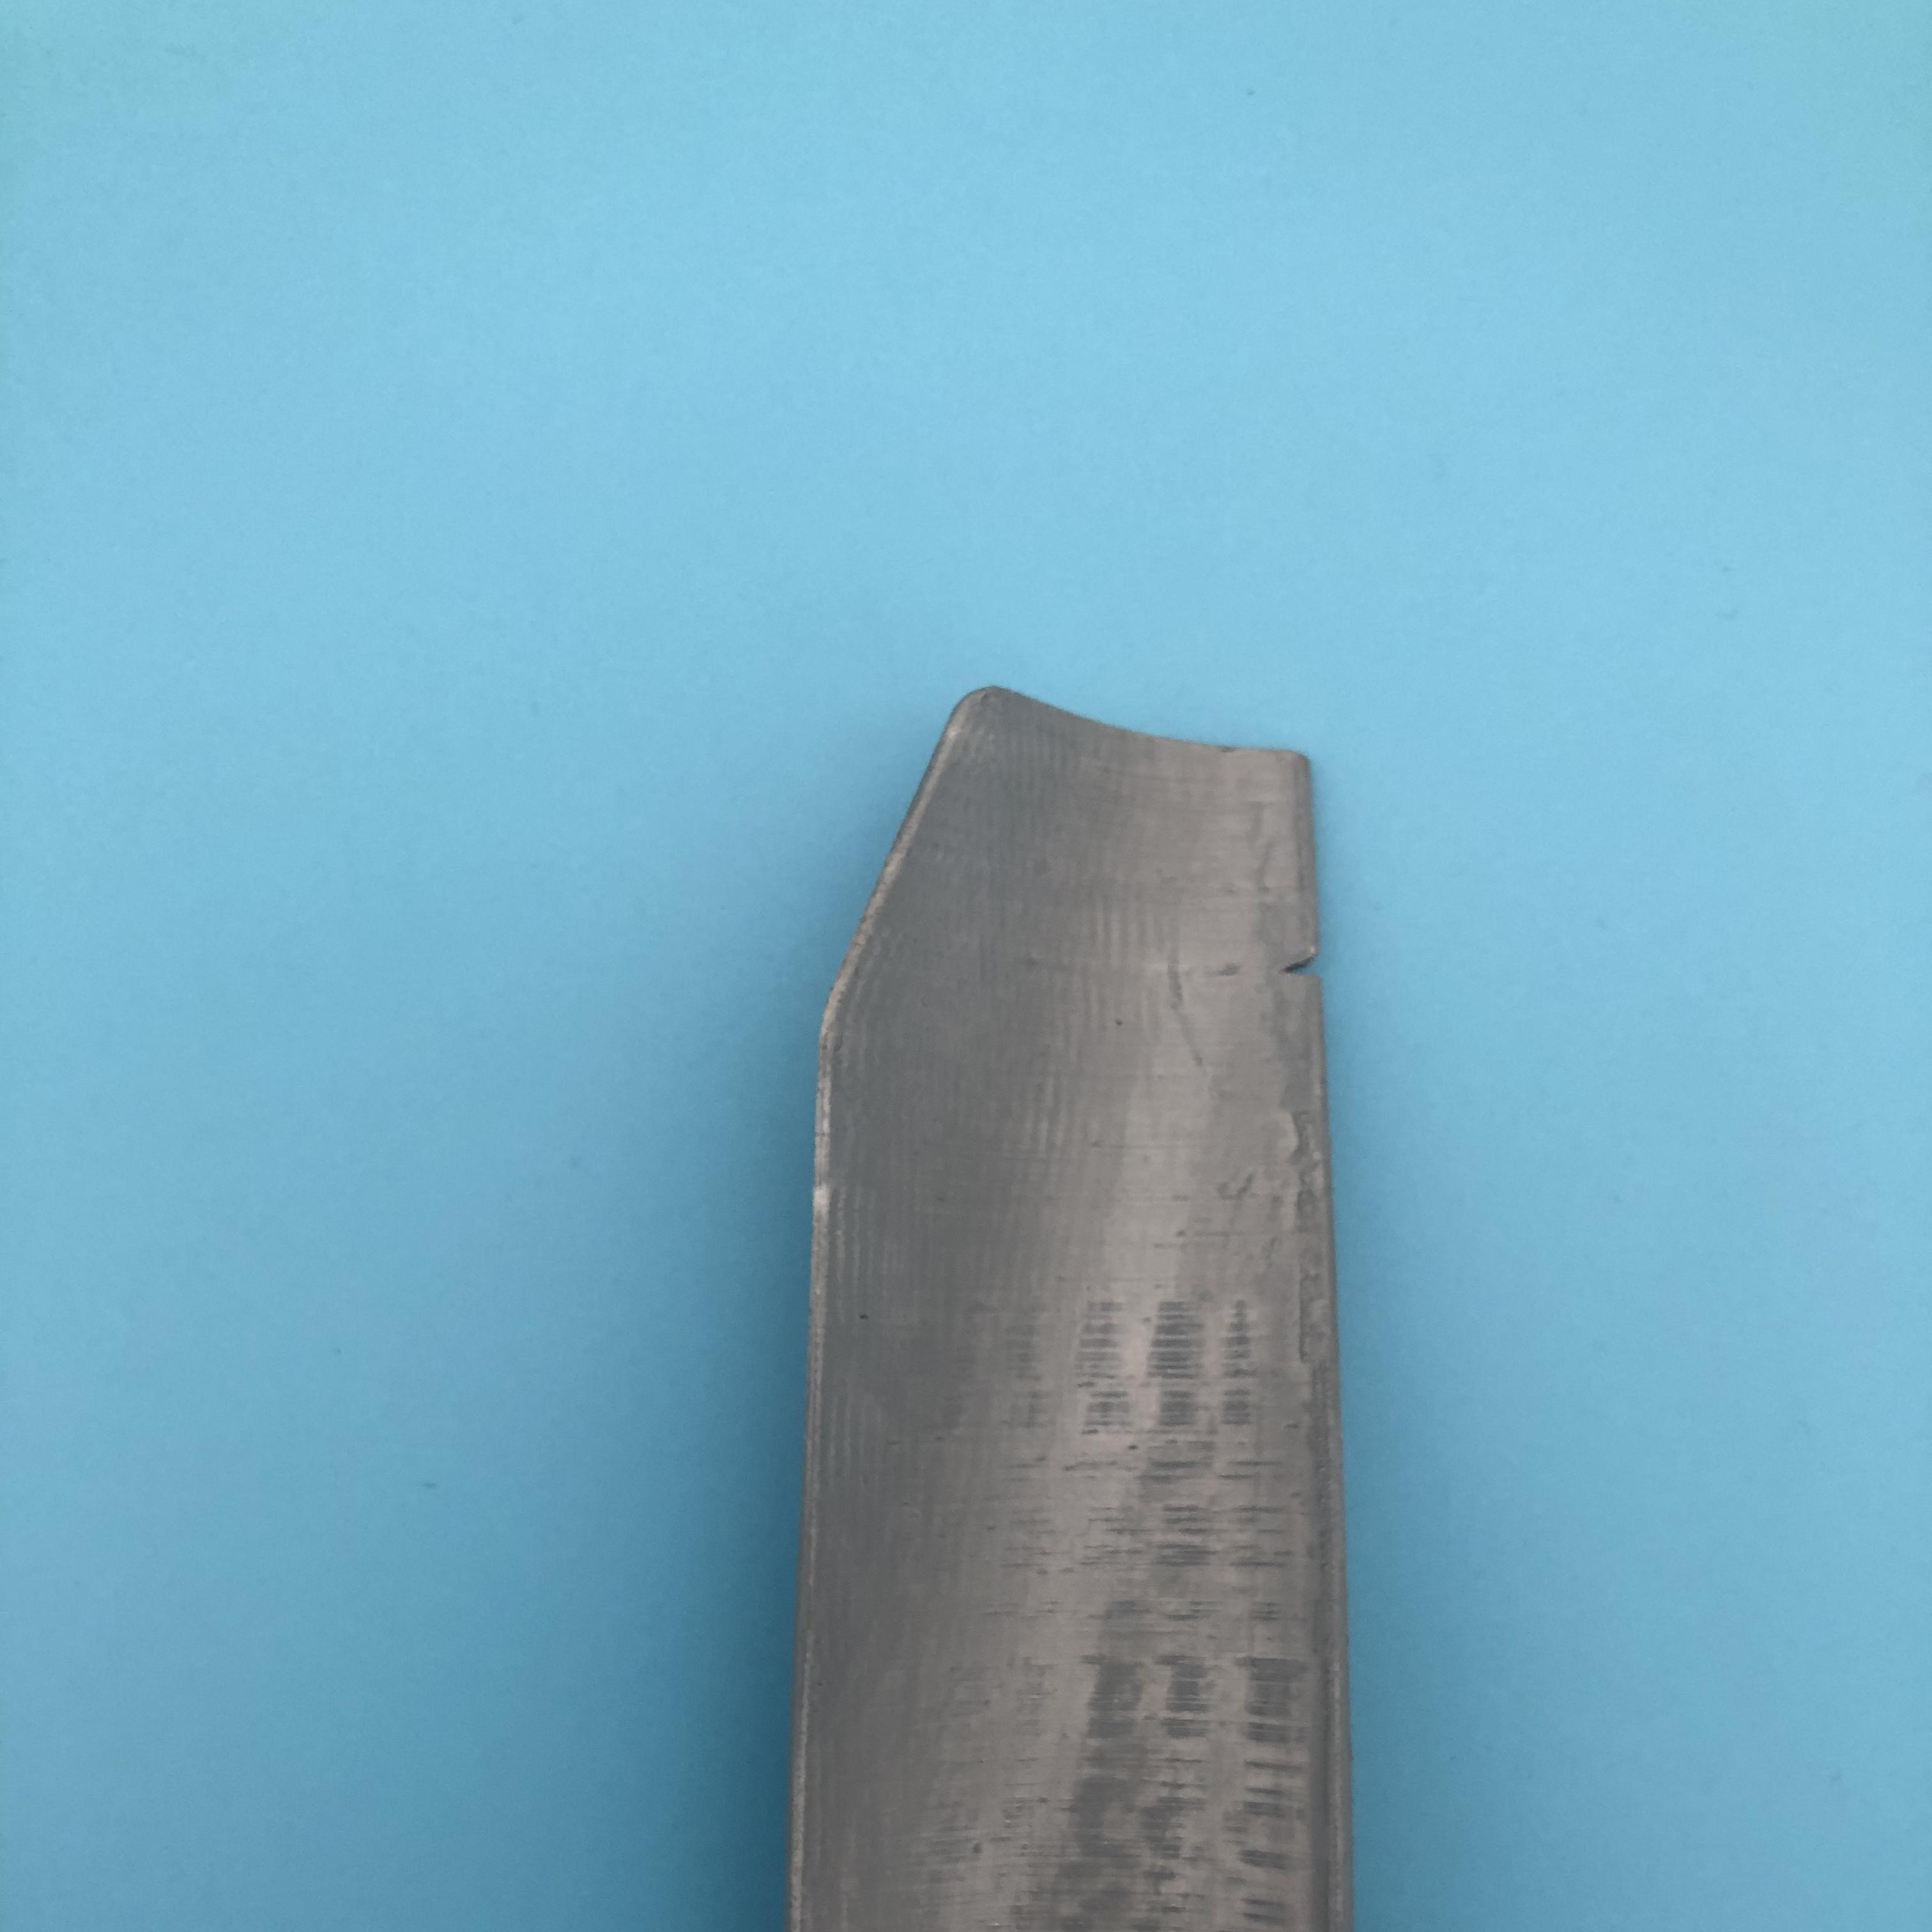groove: (1281, 934, 1322, 1016)
